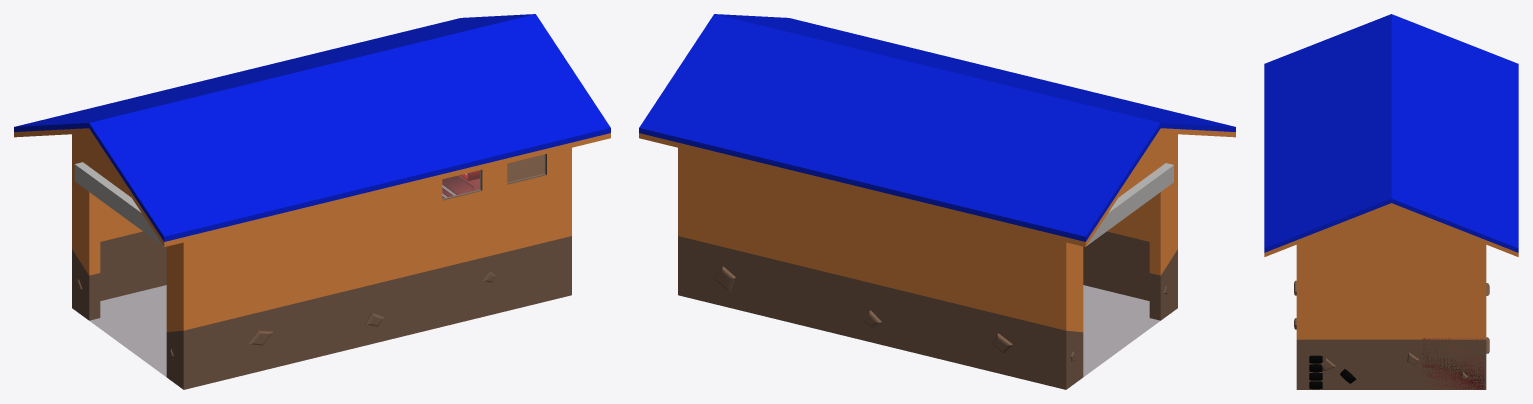
File: Garage 3.fbx
3 renders of one model, left to right at view 1: azimuth 30°, elevation 25°; view 2: azimuth 150°, elevation 25°; view 3: azimuth 270°, elevation 25°, orthographic. The views are drawn at different scales.
Visible parts, largest first — view 1: Garage 3; view 2: Garage 3; view 3: Garage 3.
Boxes of the visible parts, x1=… form: Garage 3: x1=14, y1=14, x2=610, y2=389; Garage 3: x1=639, y1=14, x2=1235, y2=389; Garage 3: x1=1264, y1=14, x2=1518, y2=389.
Size of the model in its own units: 2247 by 1132 by 1309.
